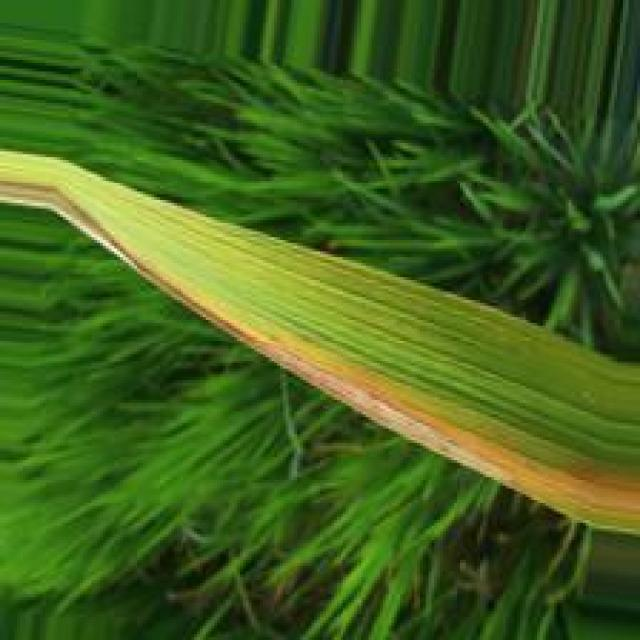Leaf_Scald: (0, 182, 637, 512)
